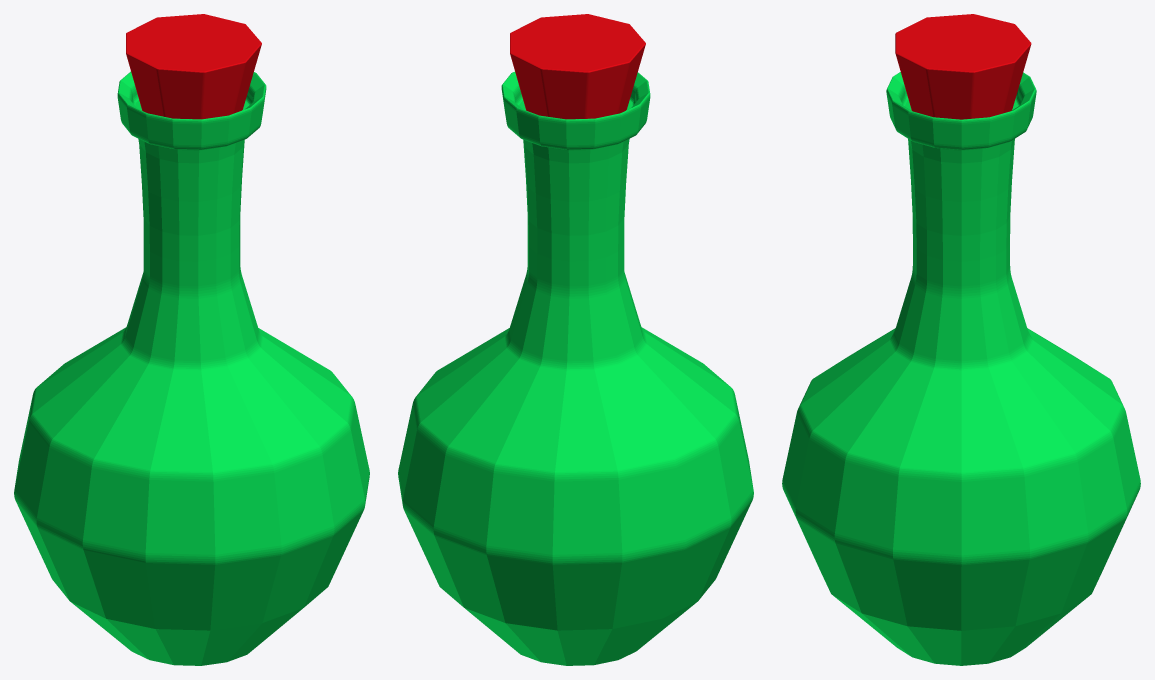
Rendered from Bottle-1.fbx.
The picture shows the model from 3 angles, left to right: view 1: azimuth 30°, elevation 25°; view 2: azimuth 150°, elevation 25°; view 3: azimuth 270°, elevation 25°; orthographic projection.
Parts seen in each view (by area): view 1: Bottle_1, Kork; view 2: Bottle_1, Kork; view 3: Bottle_1, Kork.
Boxes of the visible parts, <box> form: Bottle_1: <box>14,71,369,665</box>; Kork: <box>126,14,261,119</box>; Bottle_1: <box>398,71,753,665</box>; Kork: <box>510,14,645,119</box>; Bottle_1: <box>782,72,1140,665</box>; Kork: <box>895,14,1031,119</box>.
Size of the model in its own units: 326 by 595 by 326.
